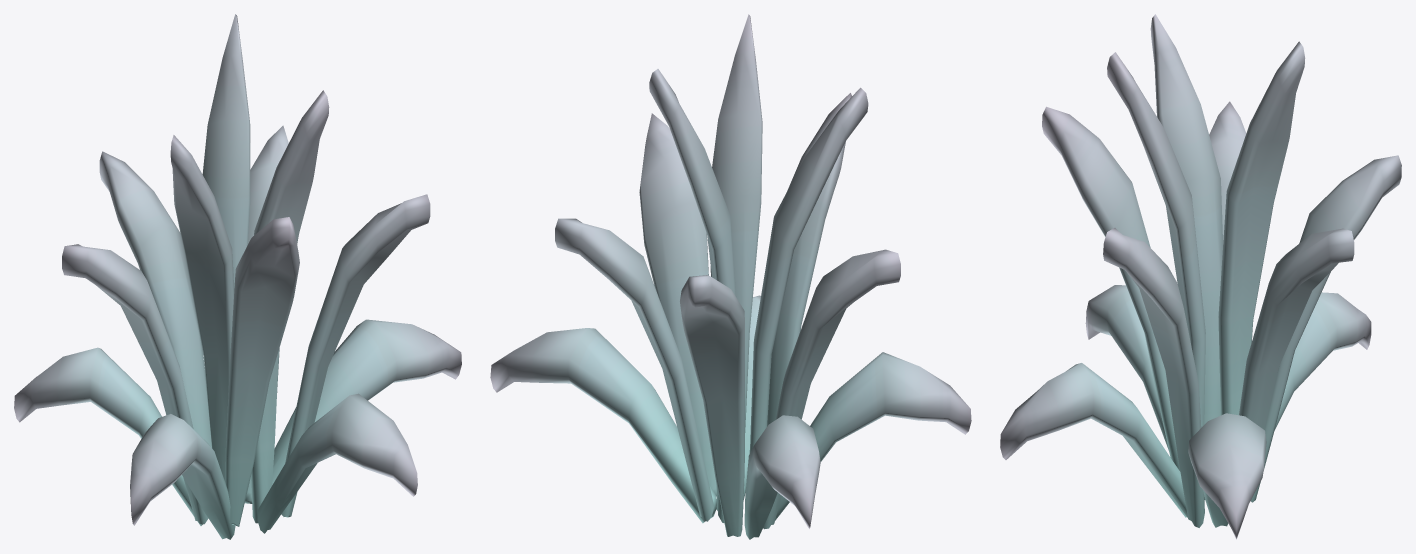
The model's file is pequeno_coral09.fbx.
3 renders of one model, left to right at view 1: azimuth 30°, elevation 25°; view 2: azimuth 150°, elevation 25°; view 3: azimuth 270°, elevation 25°, orthographic. The views are drawn at different scales.
Visible parts, largest first — view 1: Coral_puntiagudo.001; view 2: Coral_puntiagudo.001; view 3: Coral_puntiagudo.001.
Part boxes in pixels (left/top/right/bottom): Coral_puntiagudo.001: left=14, top=14, right=461, bottom=539; Coral_puntiagudo.001: left=490, top=14, right=971, bottom=539; Coral_puntiagudo.001: left=1000, top=14, right=1401, bottom=539.
Bounding box in the file's own units: 838 × 943 × 699.
Materials: 1 (1 with a texture image).
